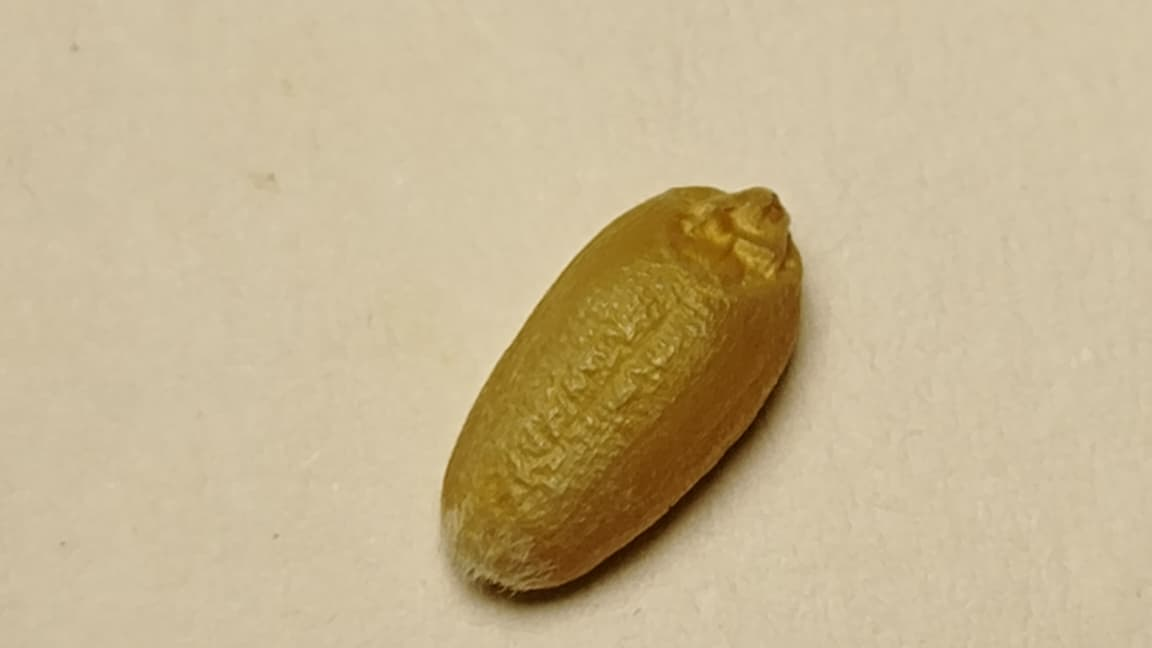healthy: (442, 187, 801, 594)
